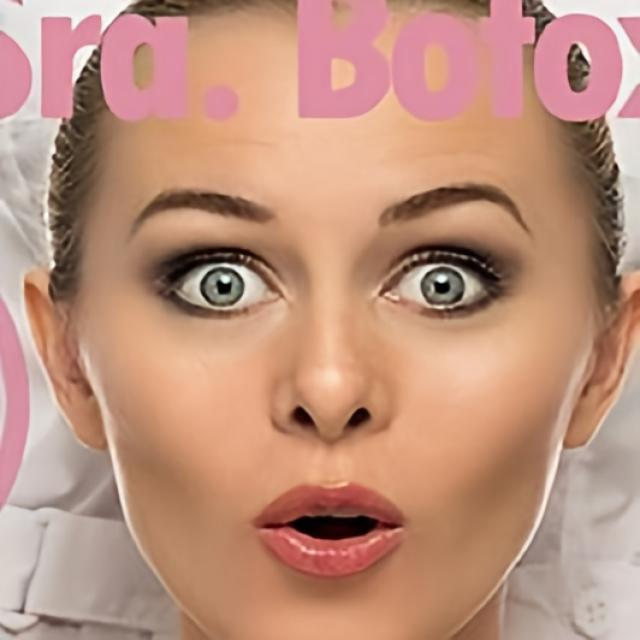surprise: (79, 0, 597, 640)
